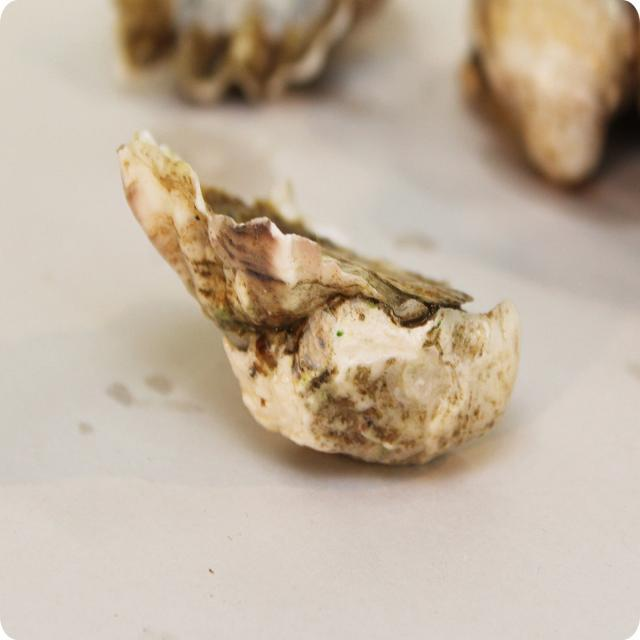Oyster- Indeterminate: (462, 0, 640, 186)
Oyster-Closed: (37, 124, 546, 517), (115, 0, 378, 104)
